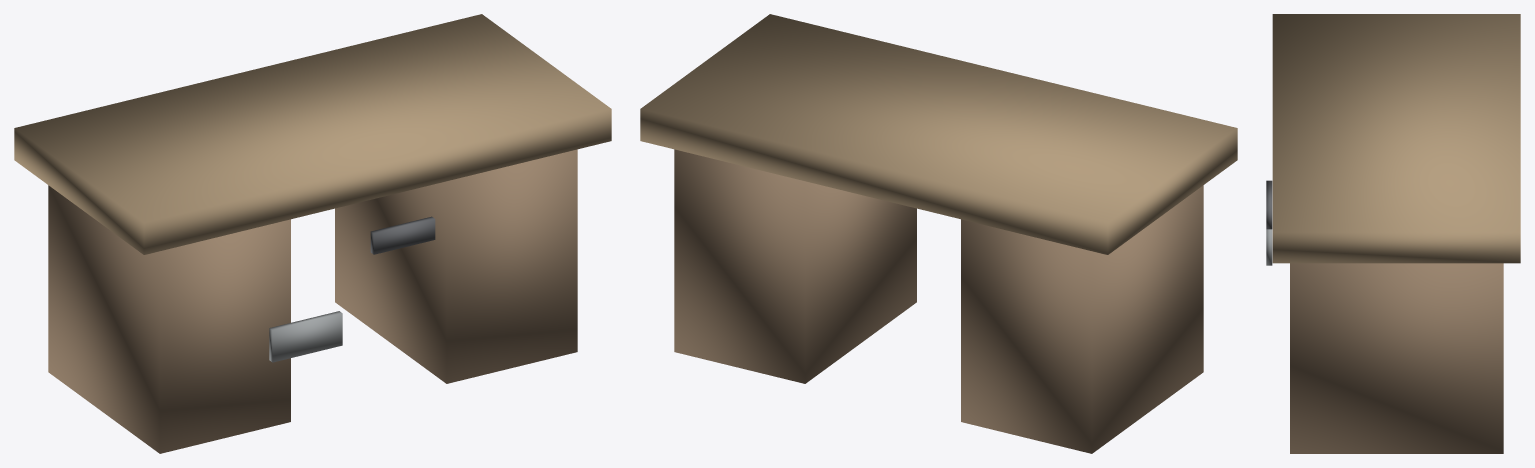
The model's file is teacher_desk__weathered.glb.
3 renders of one model, left to right at view 1: azimuth 30°, elevation 25°; view 2: azimuth 150°, elevation 25°; view 3: azimuth 270°, elevation 25°, orthographic. The views are drawn at different scales.
Parts seen in each view (by area): view 1: world; view 2: world; view 3: world.
Part boxes in pixels (x1=…): world: x1=14, y1=14, x2=611, y2=453; world: x1=640, y1=14, x2=1237, y2=453; world: x1=1266, y1=14, x2=1520, y2=453.
Bounding box in the file's own units: 1.5 × 0.7474 × 0.7391.
